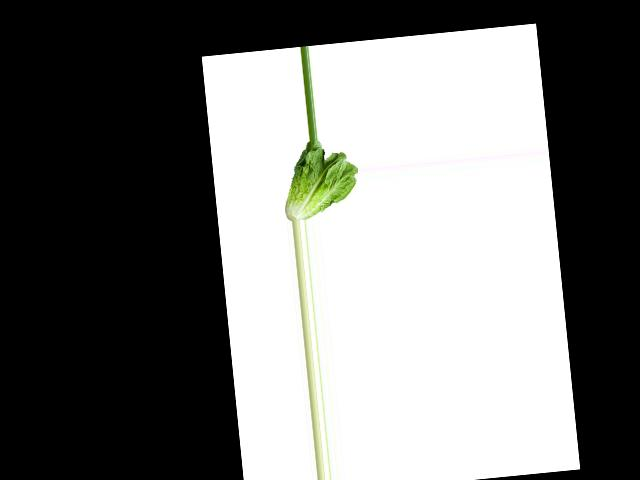lettuce: (278, 138, 362, 221)
